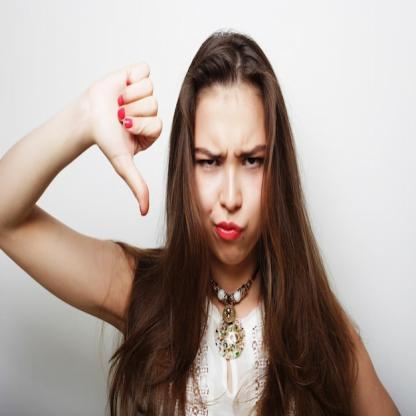thumb_down: (86, 56, 166, 220)
